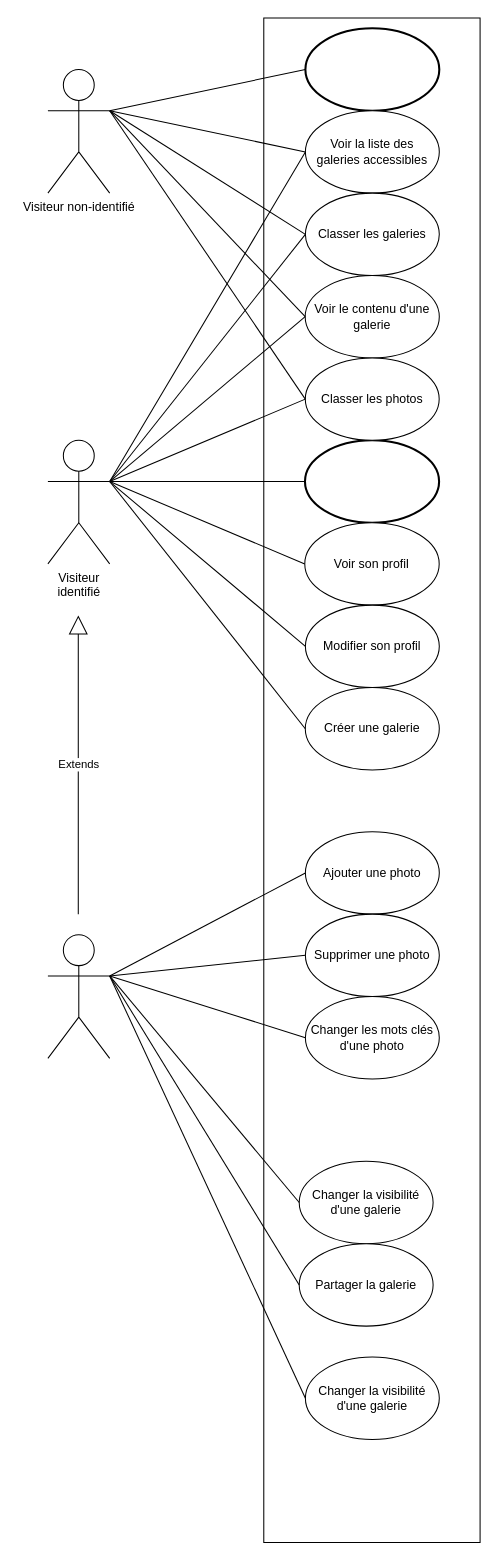
This 499x1560 diagram has some shape labels left out. Here are the shapes that lost their labels. From the top down, the centre of each, then its label:
the point at 372,69: Se connecter
the point at 371,481: Se déconnecter
the point at 78,996: Propriétaire de galerie
